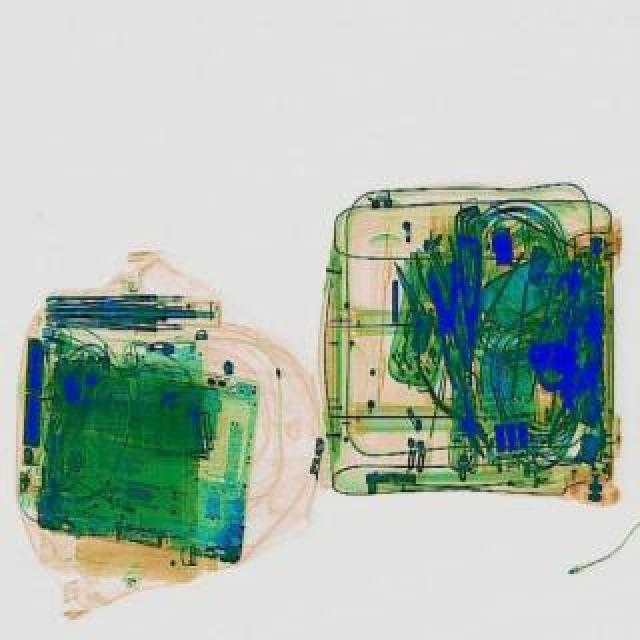wrench: (414, 354, 506, 464), (416, 274, 476, 388)
